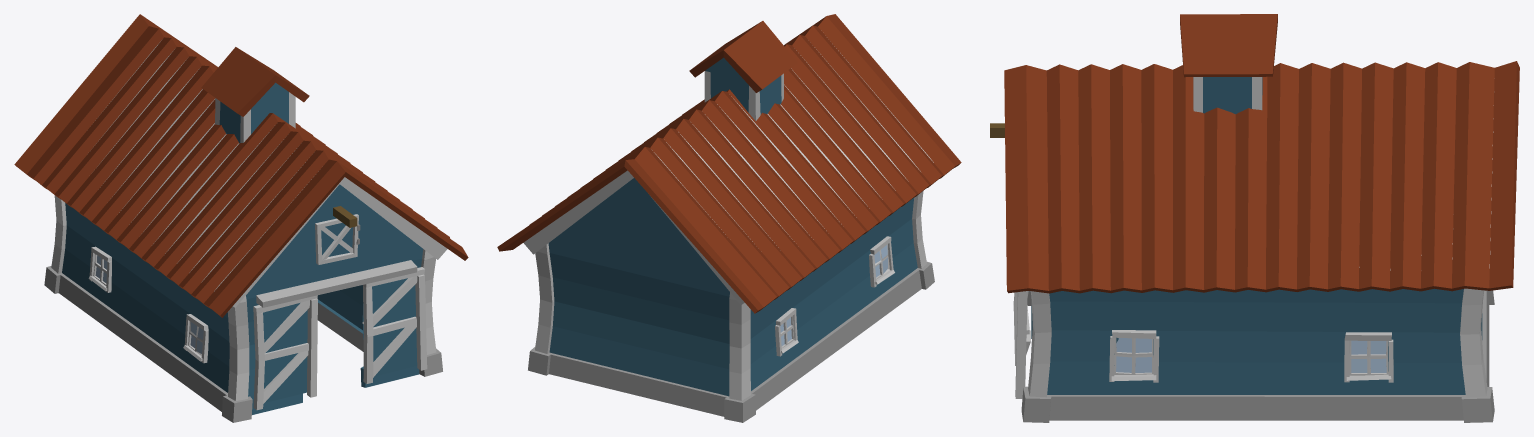
The model's file is barn.fbx.
The picture shows the model from 3 angles, left to right: view 1: azimuth 30°, elevation 25°; view 2: azimuth 150°, elevation 25°; view 3: azimuth 270°, elevation 25°; orthographic projection. The views are drawn at different scales.
Parts seen in each view (by area): view 1: barn_LOD0; view 2: barn_LOD0; view 3: barn_LOD0.
Boxes of the visible parts, <box> form: barn_LOD0: <box>14,14,468,422</box>; barn_LOD0: <box>497,14,961,422</box>; barn_LOD0: <box>990,14,1519,422</box>.
Size of what is drawn, in the model's own units: 15.29 by 15.79 by 22.03.
